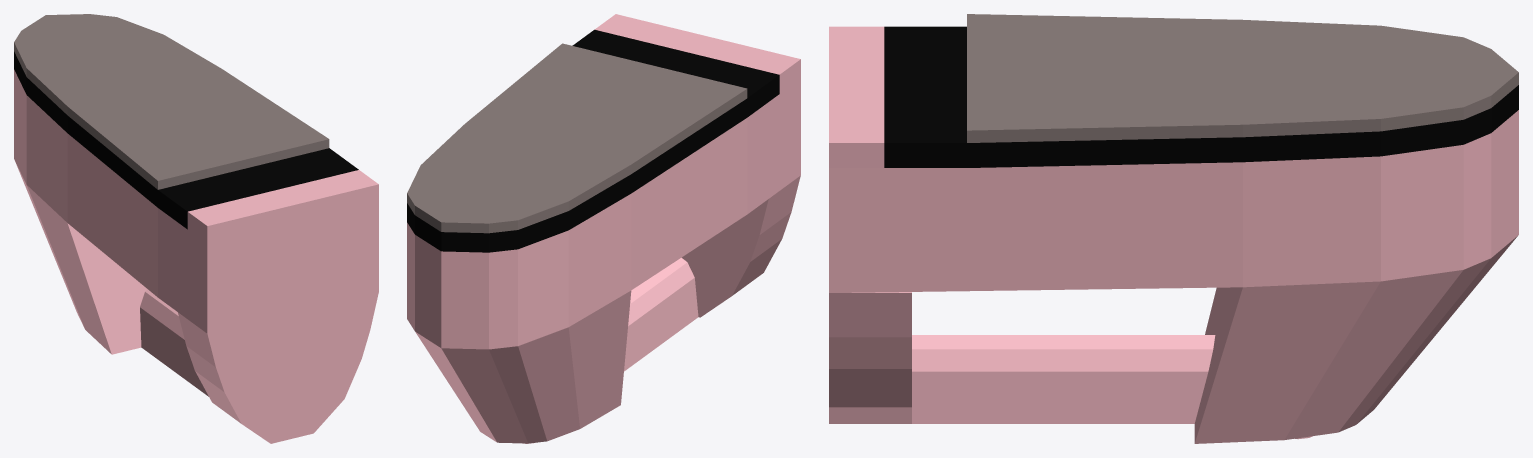
The model's file is nil_link_mesh.dae.
3 renders of one model, left to right at view 1: azimuth 30°, elevation 25°; view 2: azimuth 150°, elevation 25°; view 3: azimuth 270°, elevation 25°, orthographic. The views are drawn at different scales.
Visible parts, largest first — view 1: nil_link (×7); view 2: nil_link (×7); view 3: nil_link (×7).
Part boxes in pixels (x1,y1,x2,y2): nil_link (×7): (14, 14, 378, 443); nil_link (×7): (407, 14, 800, 443); nil_link (×7): (829, 14, 1518, 443).
Size of the model in its own units: 0.1 by 0.143 by 0.25.
